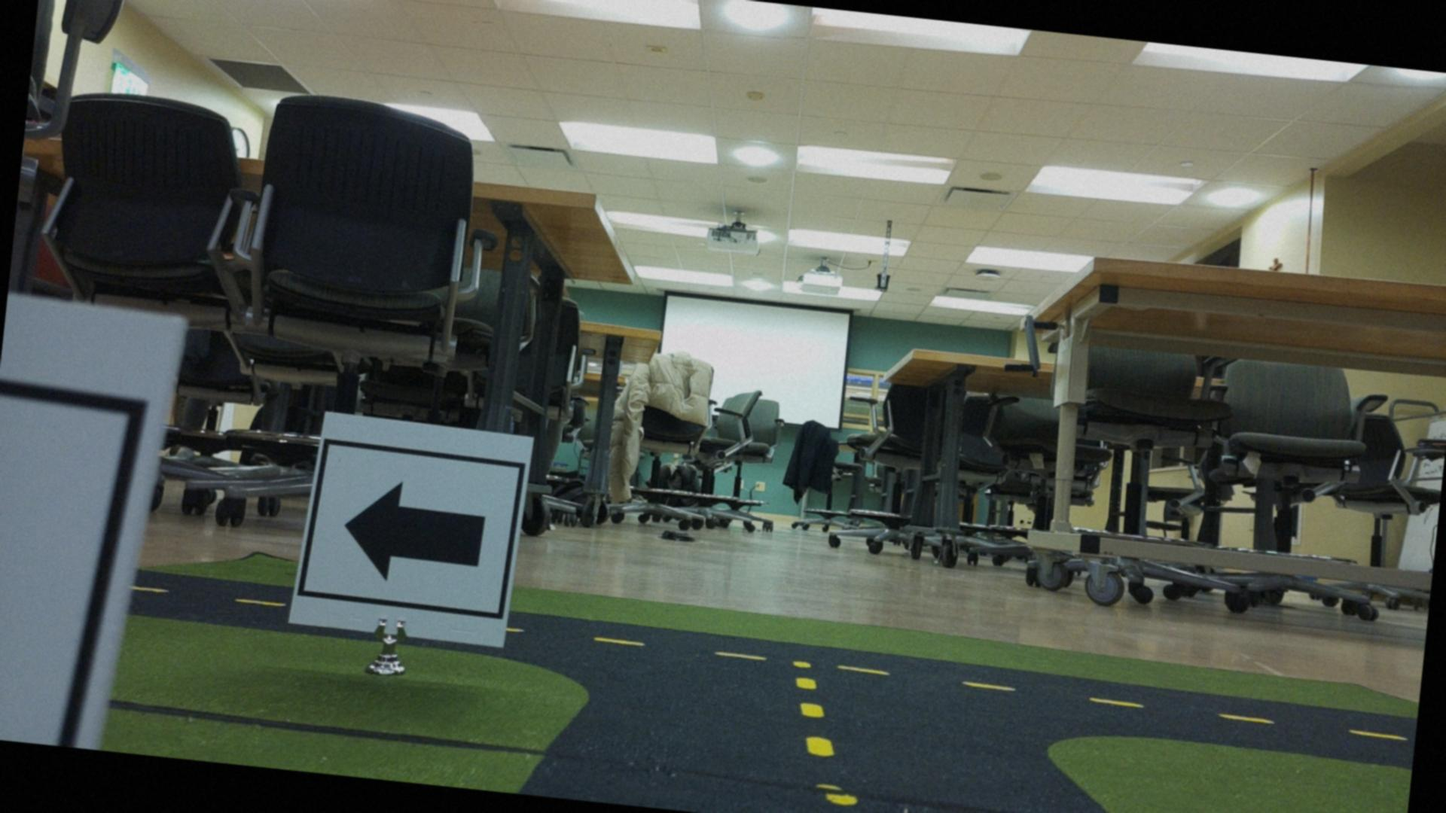turnleft: (301, 415, 520, 647)
yellowline: (593, 636, 1417, 740), (790, 679, 838, 760)
